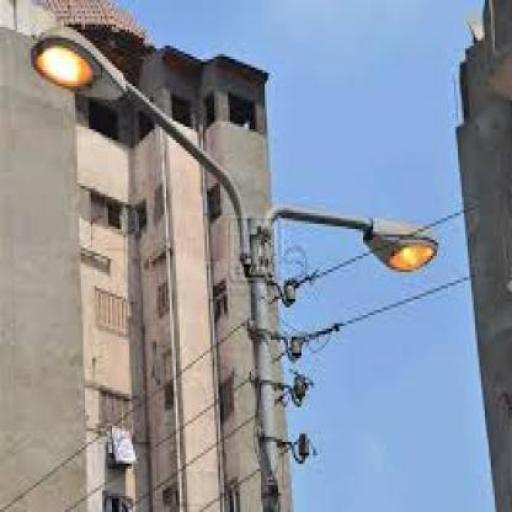street light: (28, 27, 440, 510)
